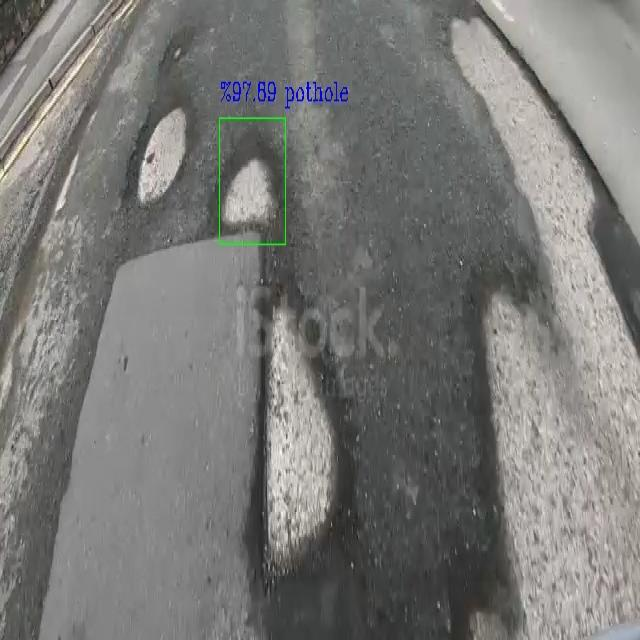pothole: (261, 272, 349, 598), (135, 100, 189, 212), (223, 149, 284, 236)
